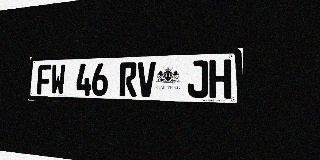4: (76, 63, 92, 96)
6: (92, 63, 108, 96)
F: (37, 65, 51, 95)
H: (209, 59, 231, 99)
J: (187, 60, 208, 98)
R: (119, 62, 137, 97)
V: (137, 62, 156, 97)
W: (51, 64, 65, 95)
